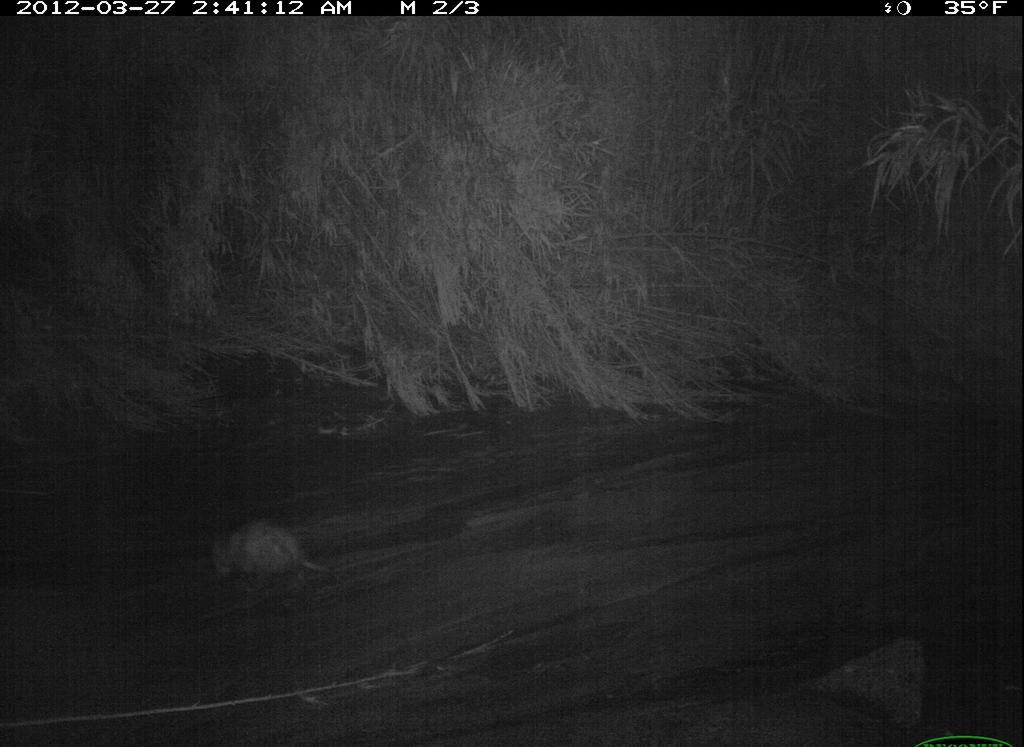opossum: (193, 505, 349, 594)
